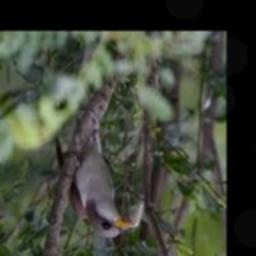Cuckoo: (56, 130, 133, 238)
